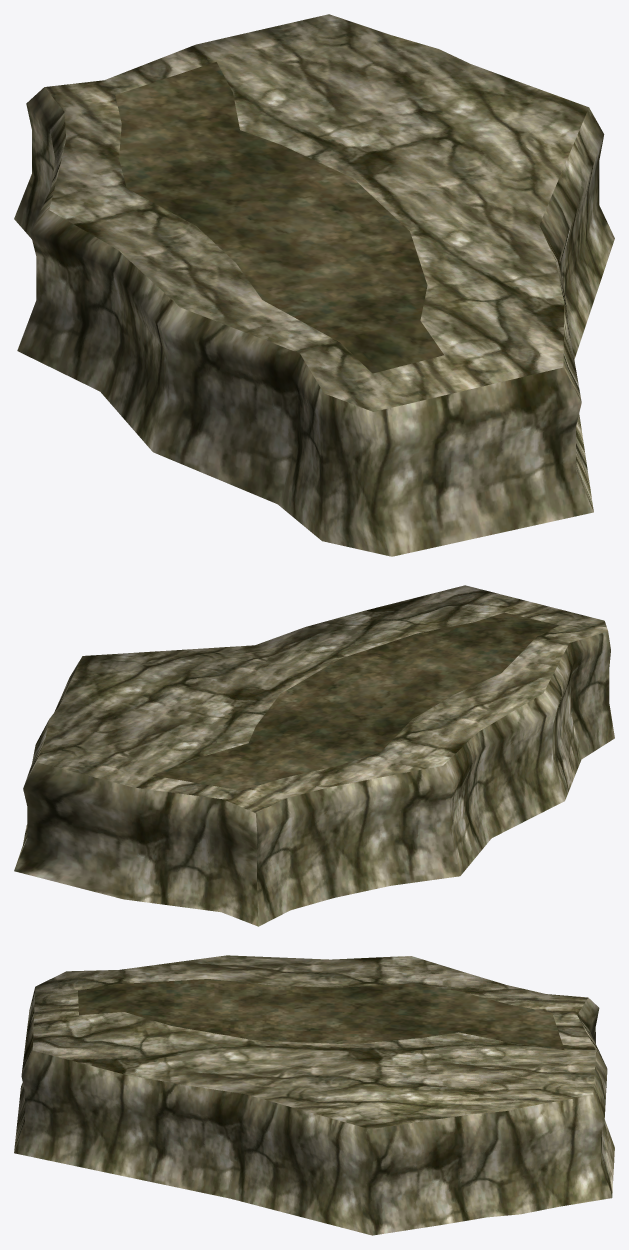
Rendered from CB_NEWPLAYSURFACE_CB_PLAYSURFACE75.fbx.
3 views of the same model, one above another, from view 1: azimuth 30°, elevation 25°; view 2: azimuth 150°, elevation 25°; view 3: azimuth 270°, elevation 25° (orthographic). The views are drawn at different scales.
Visible parts, largest first — view 1: CB_NEWPLAYSURFACE_CB_PLAYSURFACE75; view 2: CB_NEWPLAYSURFACE_CB_PLAYSURFACE75; view 3: CB_NEWPLAYSURFACE_CB_PLAYSURFACE75.
Part boxes in pixels (left/top/right/bottom): CB_NEWPLAYSURFACE_CB_PLAYSURFACE75: left=14, top=14, right=614, bottom=556; CB_NEWPLAYSURFACE_CB_PLAYSURFACE75: left=14, top=585, right=614, bottom=926; CB_NEWPLAYSURFACE_CB_PLAYSURFACE75: left=14, top=955, right=614, bottom=1235.
Bounding box in the file's own units: 147287 × 38909 × 194061.
Materials: 3 (3 with a texture image).
